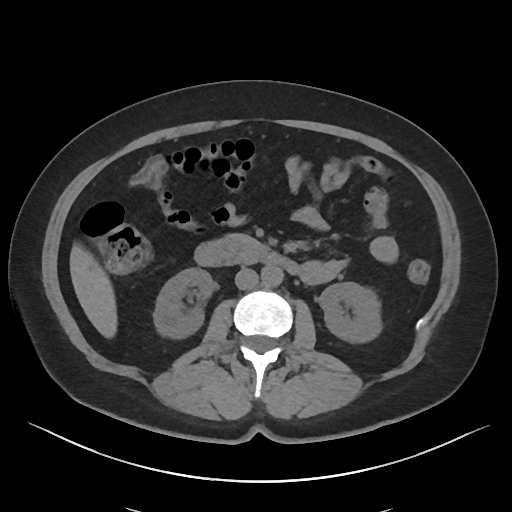Lesion: (160, 314, 178, 328)
